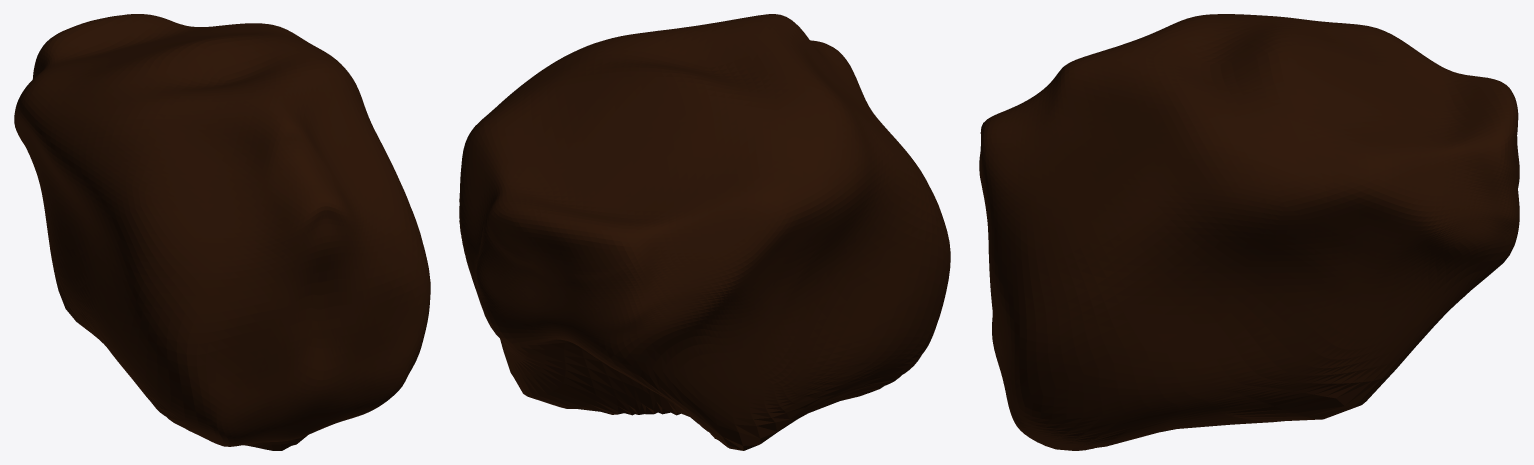
Rendered from Asteroid4.fbx.
The picture shows the model from 3 angles, left to right: view 1: azimuth 30°, elevation 25°; view 2: azimuth 150°, elevation 25°; view 3: azimuth 270°, elevation 25°; orthographic projection. The views are drawn at different scales.
Visible parts, largest first — view 1: Icosphere; view 2: Icosphere; view 3: Icosphere.
Boxes of the visible parts, <box> form: Icosphere: <box>14,14,430,450</box>; Icosphere: <box>459,14,950,450</box>; Icosphere: <box>979,14,1519,450</box>.
Size of the model in its own units: 1020 by 1157 by 1433.
